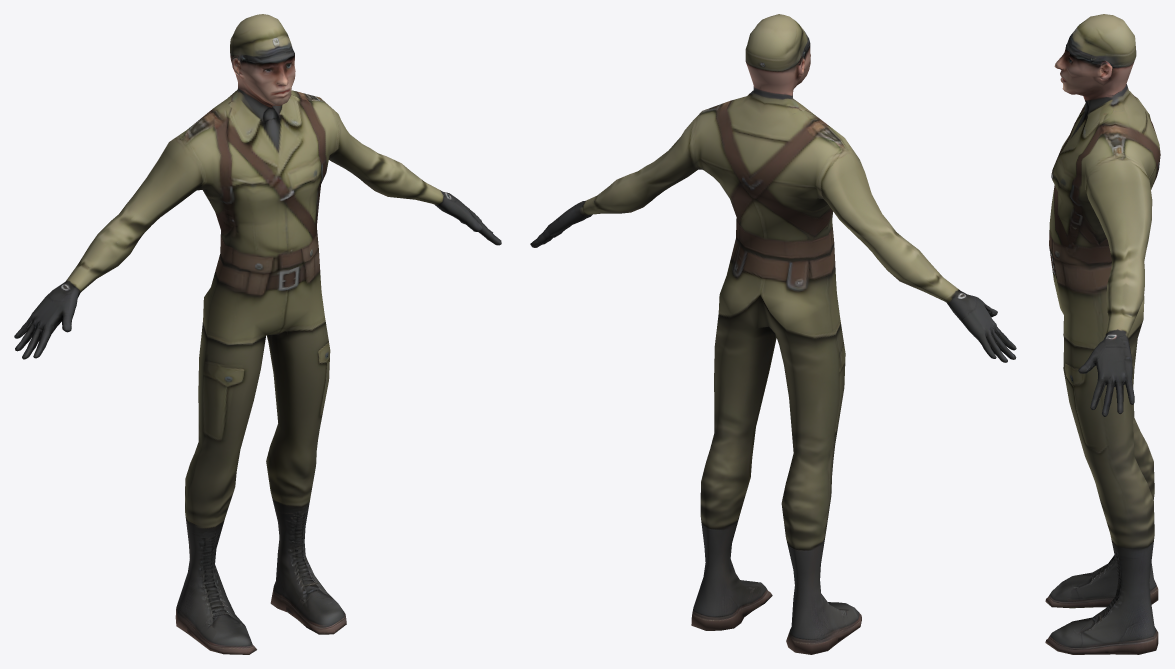
Rendered from soldier_3.glb.
The picture shows the model from 3 angles, left to right: view 1: azimuth 30°, elevation 25°; view 2: azimuth 150°, elevation 25°; view 3: azimuth 270°, elevation 25°; orthographic projection.
Visible parts, largest first — view 1: Mesh_0.002; view 2: Mesh_0.002; view 3: Mesh_0.002.
Boxes of the visible parts, x1=… form: Mesh_0.002: x1=14, y1=14, x2=501, y2=654; Mesh_0.002: x1=530, y1=14, x2=1016, y2=654; Mesh_0.002: x1=1045, y1=14, x2=1160, y2=654.
Bounding box in the file's own units: 1.65 × 2 × 0.345.
1 material, 1 textured.
